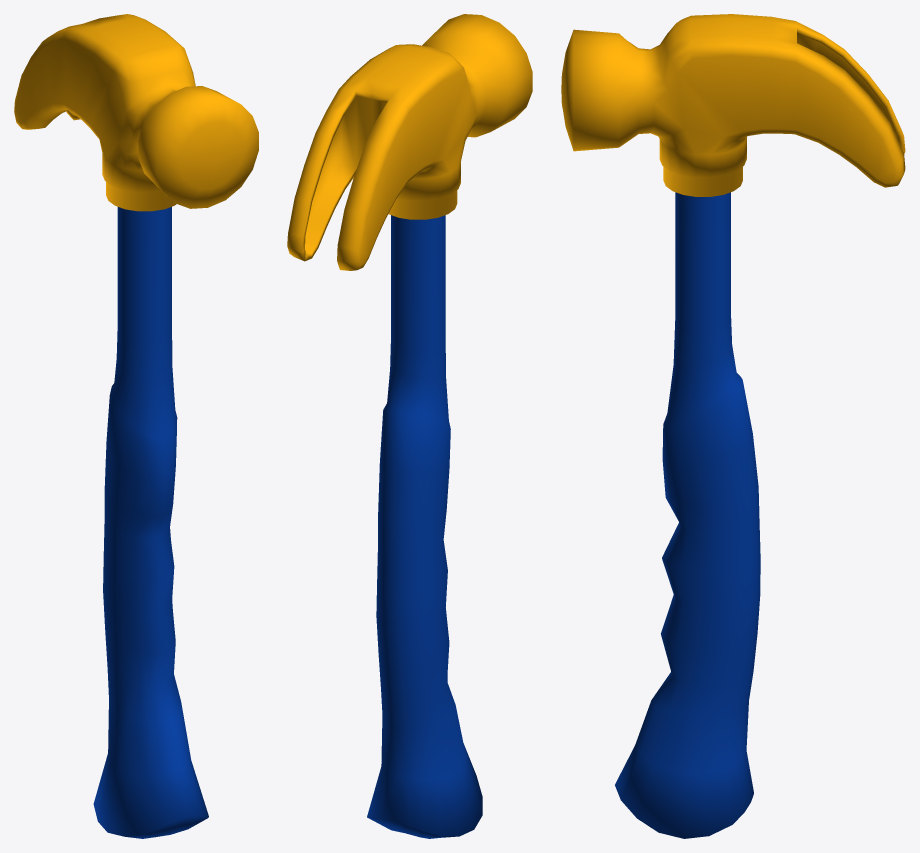
Rendered from PlasticHammer.glb.
3 views of the same model, side by side, from view 1: azimuth 30°, elevation 25°; view 2: azimuth 150°, elevation 25°; view 3: azimuth 270°, elevation 25° (orthographic). The views are drawn at different scales.
Parts seen in each view (by area): view 1: Hammer_low; view 2: Hammer_low; view 3: Hammer_low.
Part boxes in pixels (<box>): Hammer_low: <box>14,14,258,838</box>; Hammer_low: <box>287,14,532,838</box>; Hammer_low: <box>561,14,905,838</box>.
Size of the model in its own units: 0.0462 by 0.34 by 0.132.
1 material, 1 textured.
